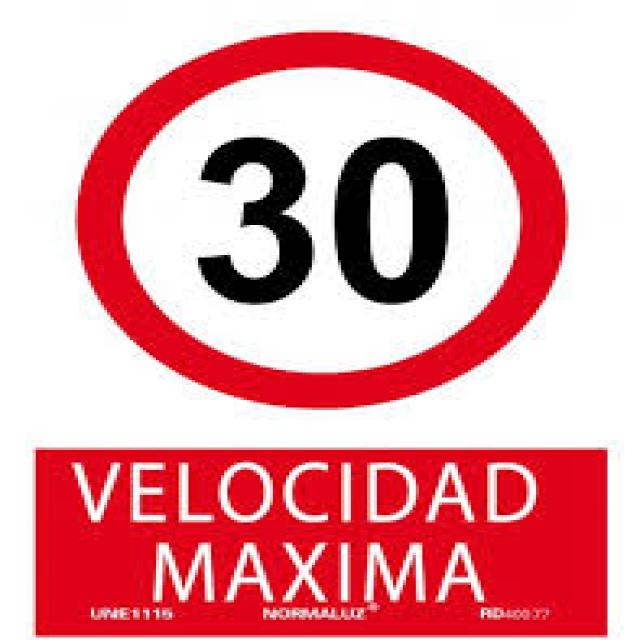Speed limit 30: (69, 26, 573, 411)
